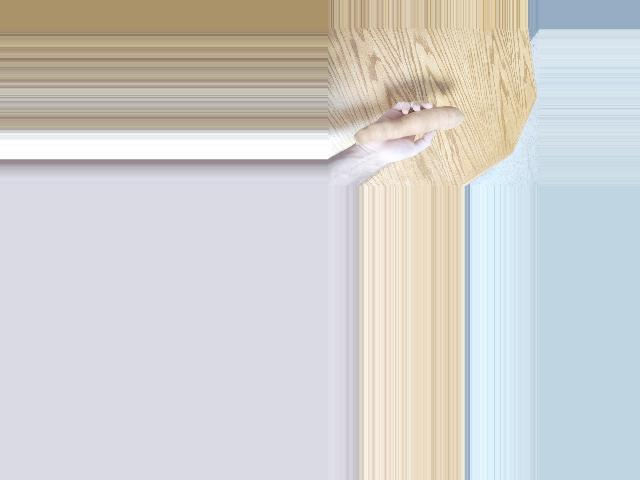sweet_potato: (360, 100, 469, 148)
